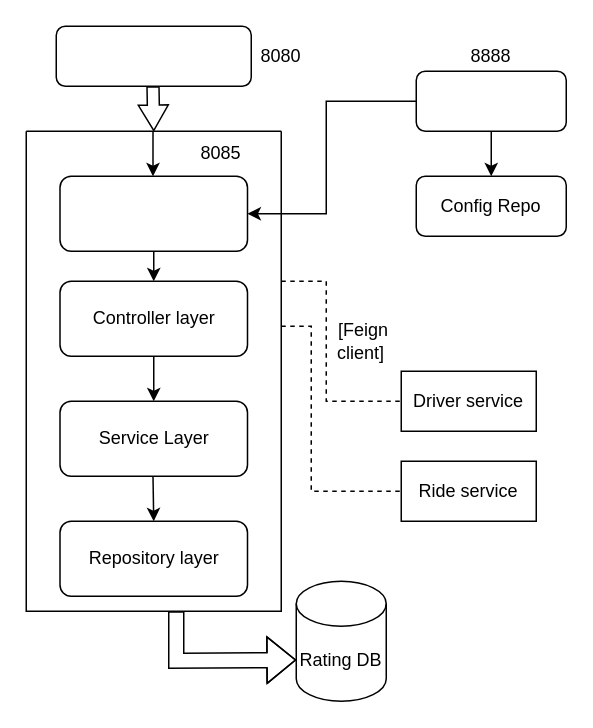
This 593x728 diagram has some shape labels left out. Each missing label, with the box of its shape:
API Gateway: (55, 25, 251, 86)
Config Server: (415, 70, 566, 131)
Rating Service: (58, 175, 248, 251)
